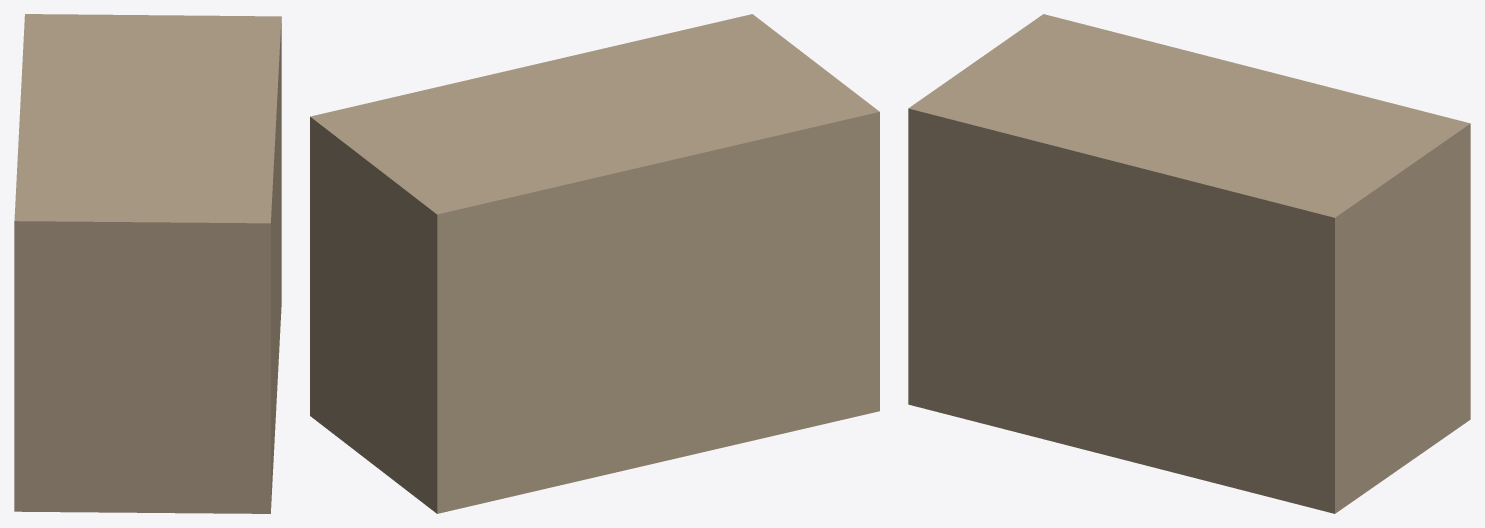
File: bld_100469364.dae
3 views of the same model, side by side, from view 1: azimuth 30°, elevation 25°; view 2: azimuth 150°, elevation 25°; view 3: azimuth 270°, elevation 25° (orthographic). The views are drawn at different scales.
Visible parts, largest first — view 1: bld_100469364; view 2: bld_100469364; view 3: bld_100469364.
Boxes of the visible parts, x1,y1,x2,y2 form: bld_100469364: (14, 14, 281, 513); bld_100469364: (310, 14, 879, 513); bld_100469364: (908, 14, 1470, 513).
Size of the model in its own units: 11.81 by 13.77 by 8.
